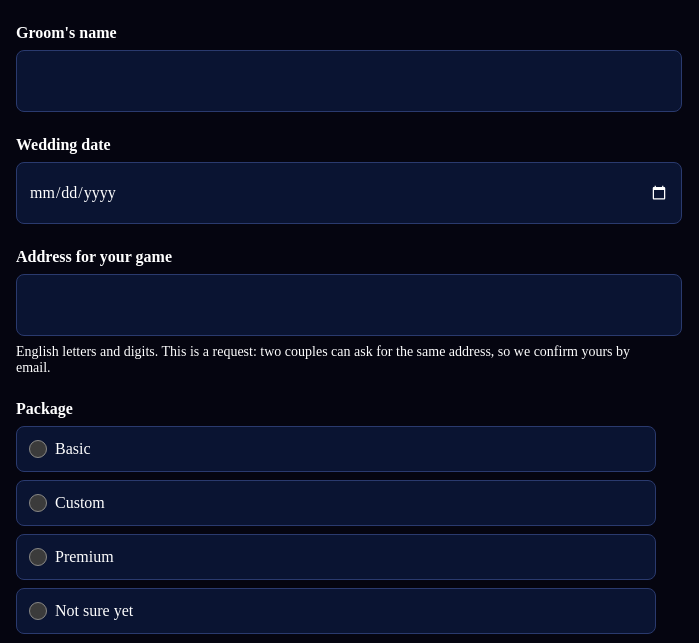
Test case: OrderPage (component): address field › test_slug_status_live: a free address shows its full URL
(page scrolled)
Type "DanAndShelly" into the field labelled "Address for your game".
click(349, 305); type("DanAndShelly")  # box 16,274 -> 682,336
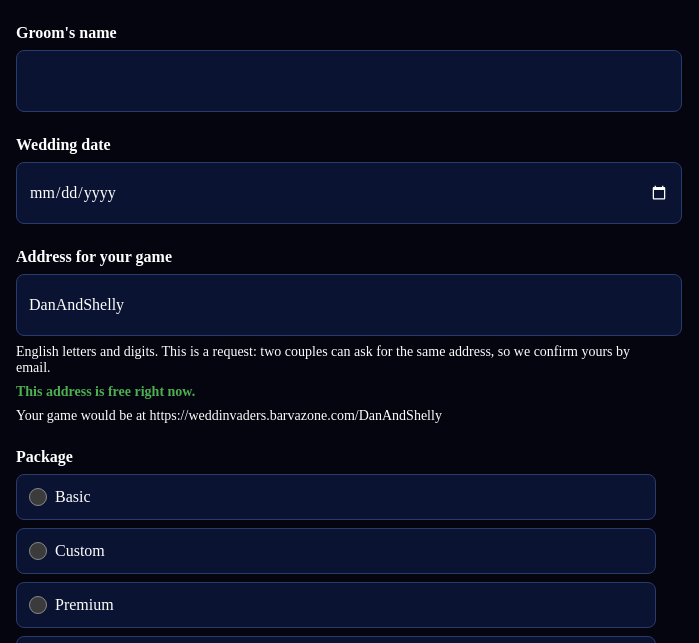
Expected: the message with test id "order-slug-status" reads "This address is free right now.", 16,384 -> 195,399
Expected: the text with test id "order-slug-preview" reads "Your game would be at https://weddinvaders.barvazone.com/DanAndShelly", 16,408 -> 442,423
